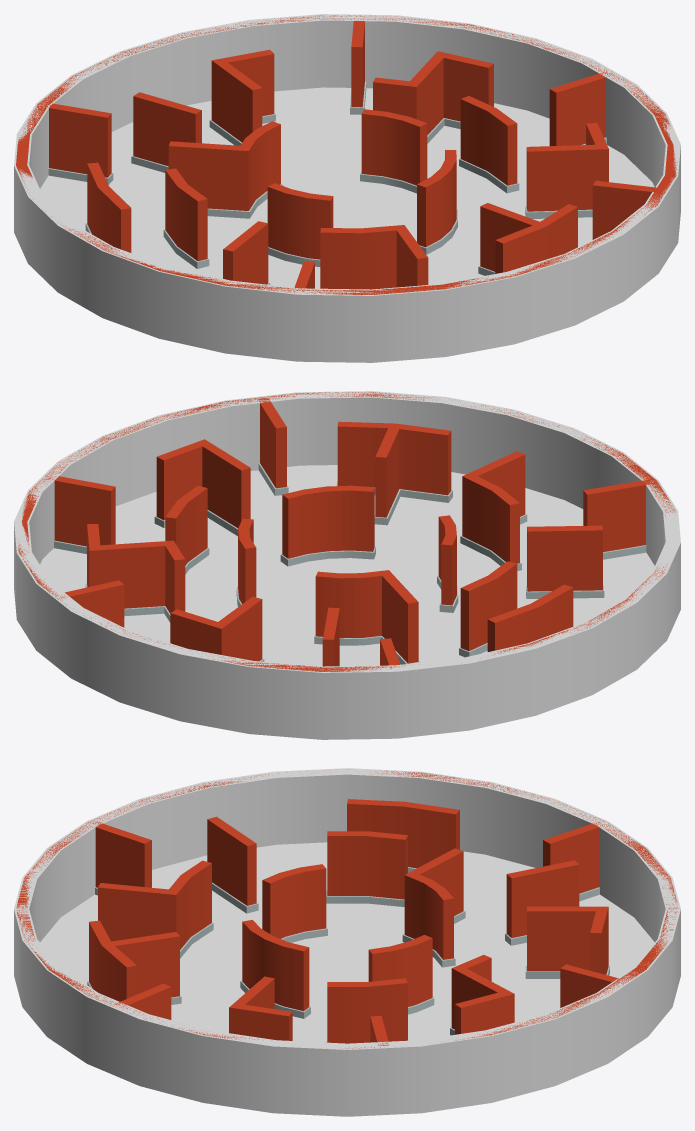
The model's file is Location2.fbx.
3 renders of one model, top to bottom at view 1: azimuth 30°, elevation 25°; view 2: azimuth 150°, elevation 25°; view 3: azimuth 270°, elevation 25°, orthographic.
Visible parts, largest first — view 1: outer_wall.02, wall.02, water.02; view 2: outer_wall.02, wall.02, water.02; view 3: outer_wall.02, wall.02, water.02.
Boxes of the visible parts, x1,y1,x2,y2 form: outer_wall.02: [14, 14, 680, 362]; wall.02: [16, 15, 676, 294]; water.02: [40, 87, 654, 288]; outer_wall.02: [14, 391, 680, 739]; wall.02: [18, 392, 675, 671]; water.02: [40, 465, 654, 666]; outer_wall.02: [14, 768, 680, 1116]; wall.02: [16, 769, 678, 1049]; water.02: [40, 842, 654, 1042].
Bounding box in the file's own units: 1652 × 183 × 1652.
